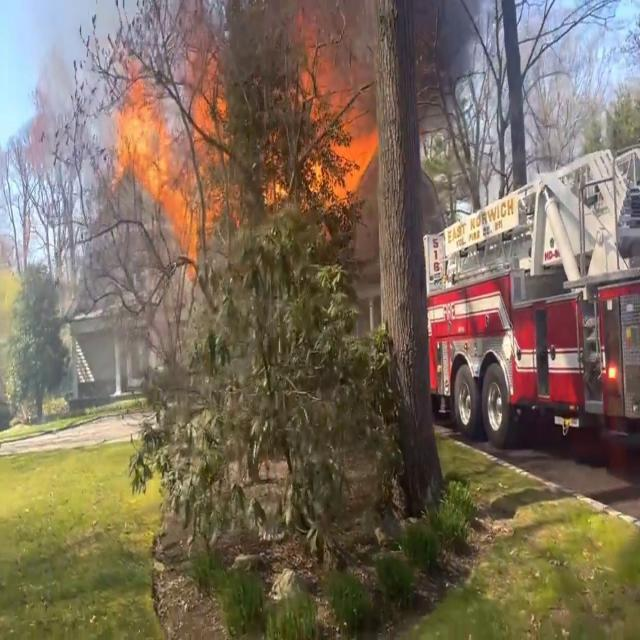Fire: (106, 50, 236, 252), (284, 5, 382, 212)
